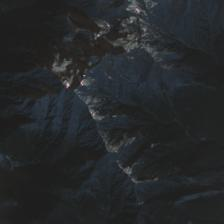landslides: (6, 154, 13, 172)
